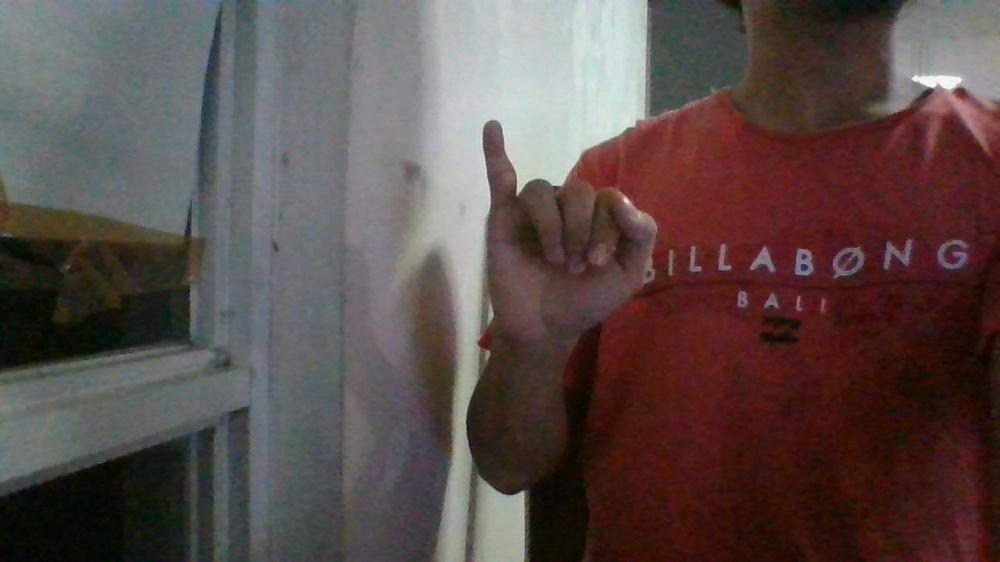i: (481, 118, 657, 341)
